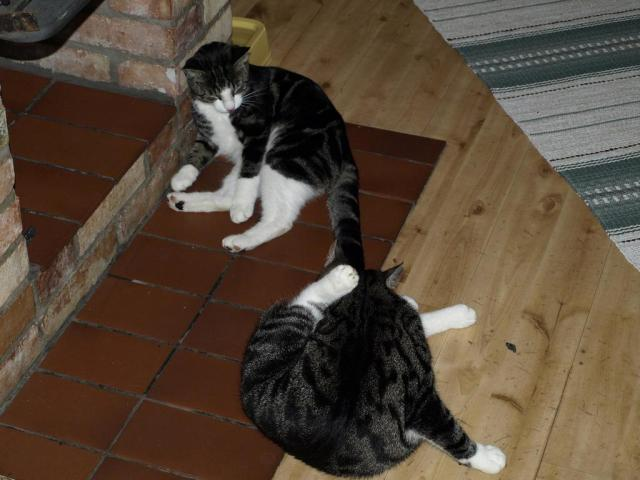Cat: (239, 238, 505, 480), (166, 46, 358, 272)
